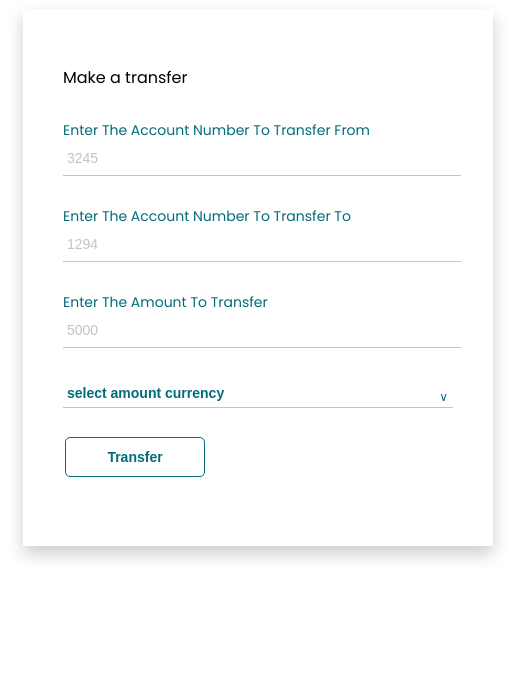
Scenario: CreateTransfer Test › should validate the input
Click the button with test id "createtransfer-transfer" at [135, 457], box [65,437,205,477]
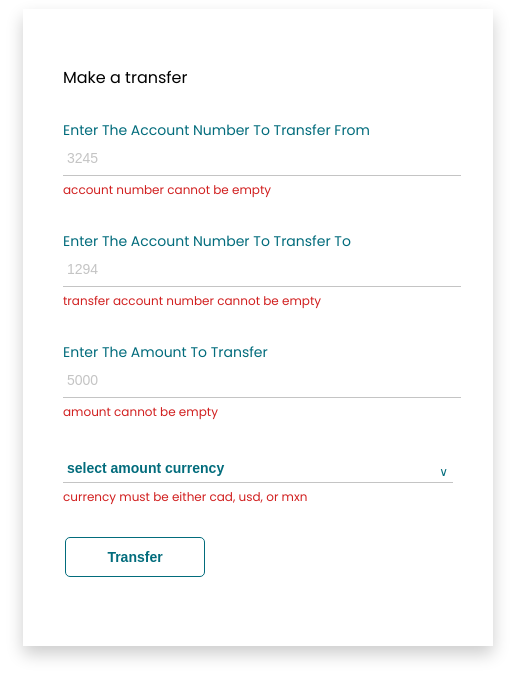
Now the text "account number cannot be empty" is shown, box [63,181,271,198]
Now the text "transfer account number cannot be empty" is shown, box [63,292,321,309]
Now the text "amount cannot be empty" is shown, box [63,403,218,420]
